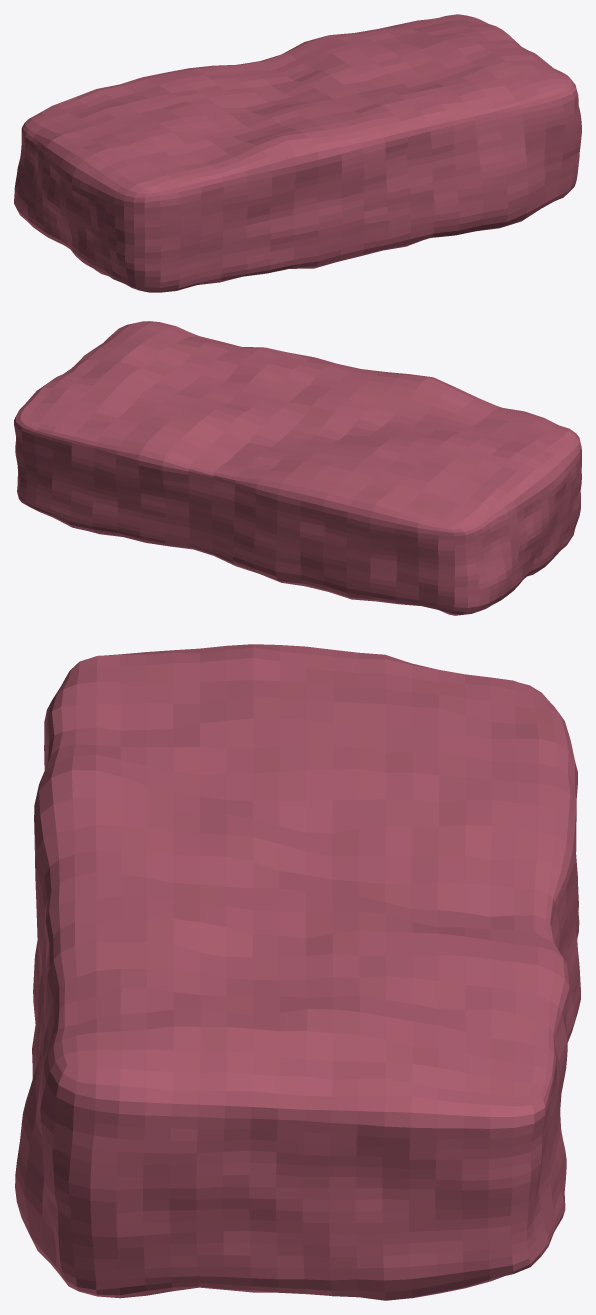
3 views of the same model, one above another, from view 1: azimuth 30°, elevation 25°; view 2: azimuth 150°, elevation 25°; view 3: azimuth 270°, elevation 25° (orthographic). The views are drawn at different scales.
Size of the model in its own units: 1.23 by 0.3389 by 0.6386.
